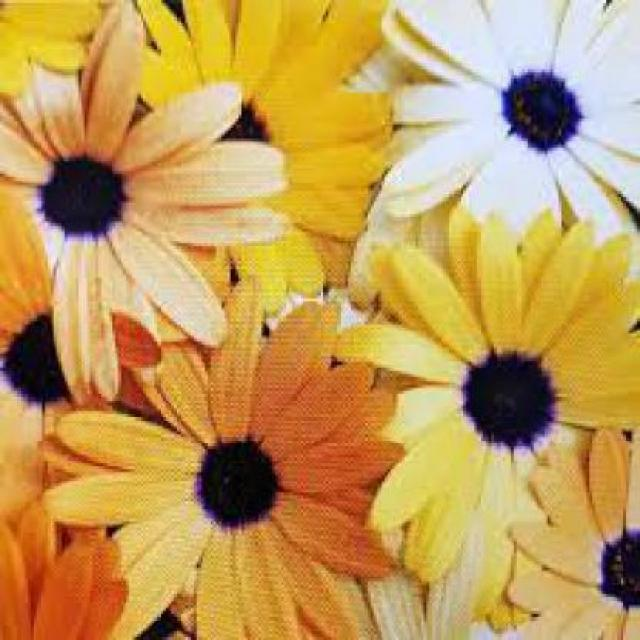Flower: (42, 278, 410, 638), (331, 206, 637, 585), (3, 3, 289, 403), (90, 3, 396, 295), (376, 3, 638, 269), (511, 429, 637, 638), (463, 354, 555, 446), (39, 156, 124, 238), (502, 72, 581, 151), (202, 443, 273, 522), (603, 533, 637, 602)
